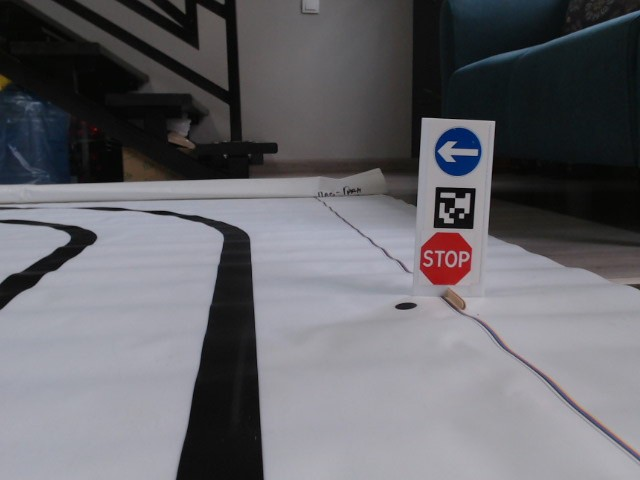Stop: (419, 229, 473, 290)
